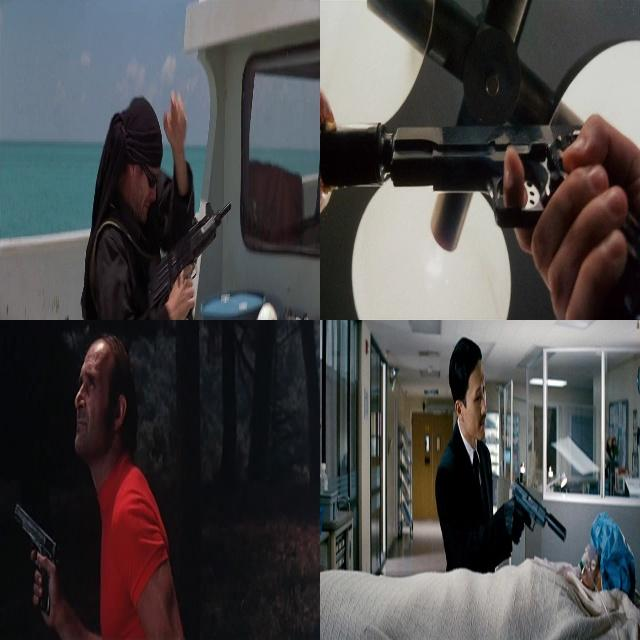gun: (323, 74, 627, 266), (148, 193, 235, 319), (11, 493, 63, 624), (504, 474, 567, 553)
